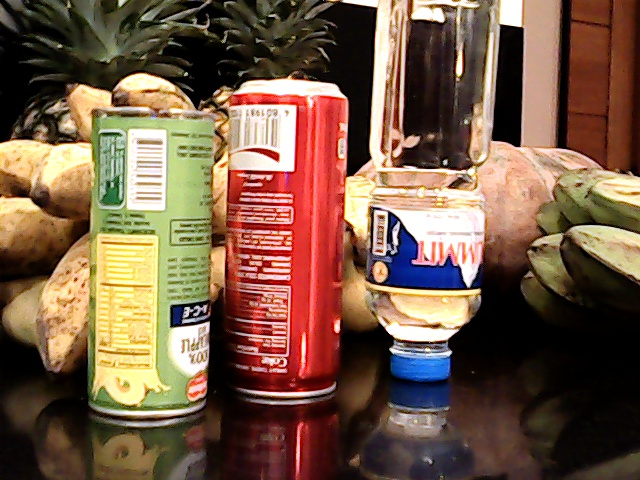Cola: (217, 68, 357, 420)
Pine Juice: (75, 85, 222, 440)
Summit Water: (355, 1, 500, 404)
